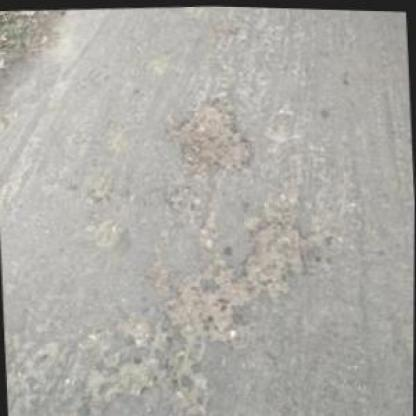pothole: (158, 93, 254, 179), (157, 254, 247, 345), (237, 212, 311, 300)
